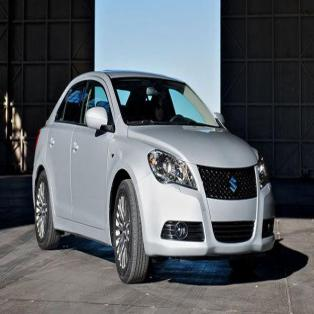Auto: (31, 67, 276, 288)
